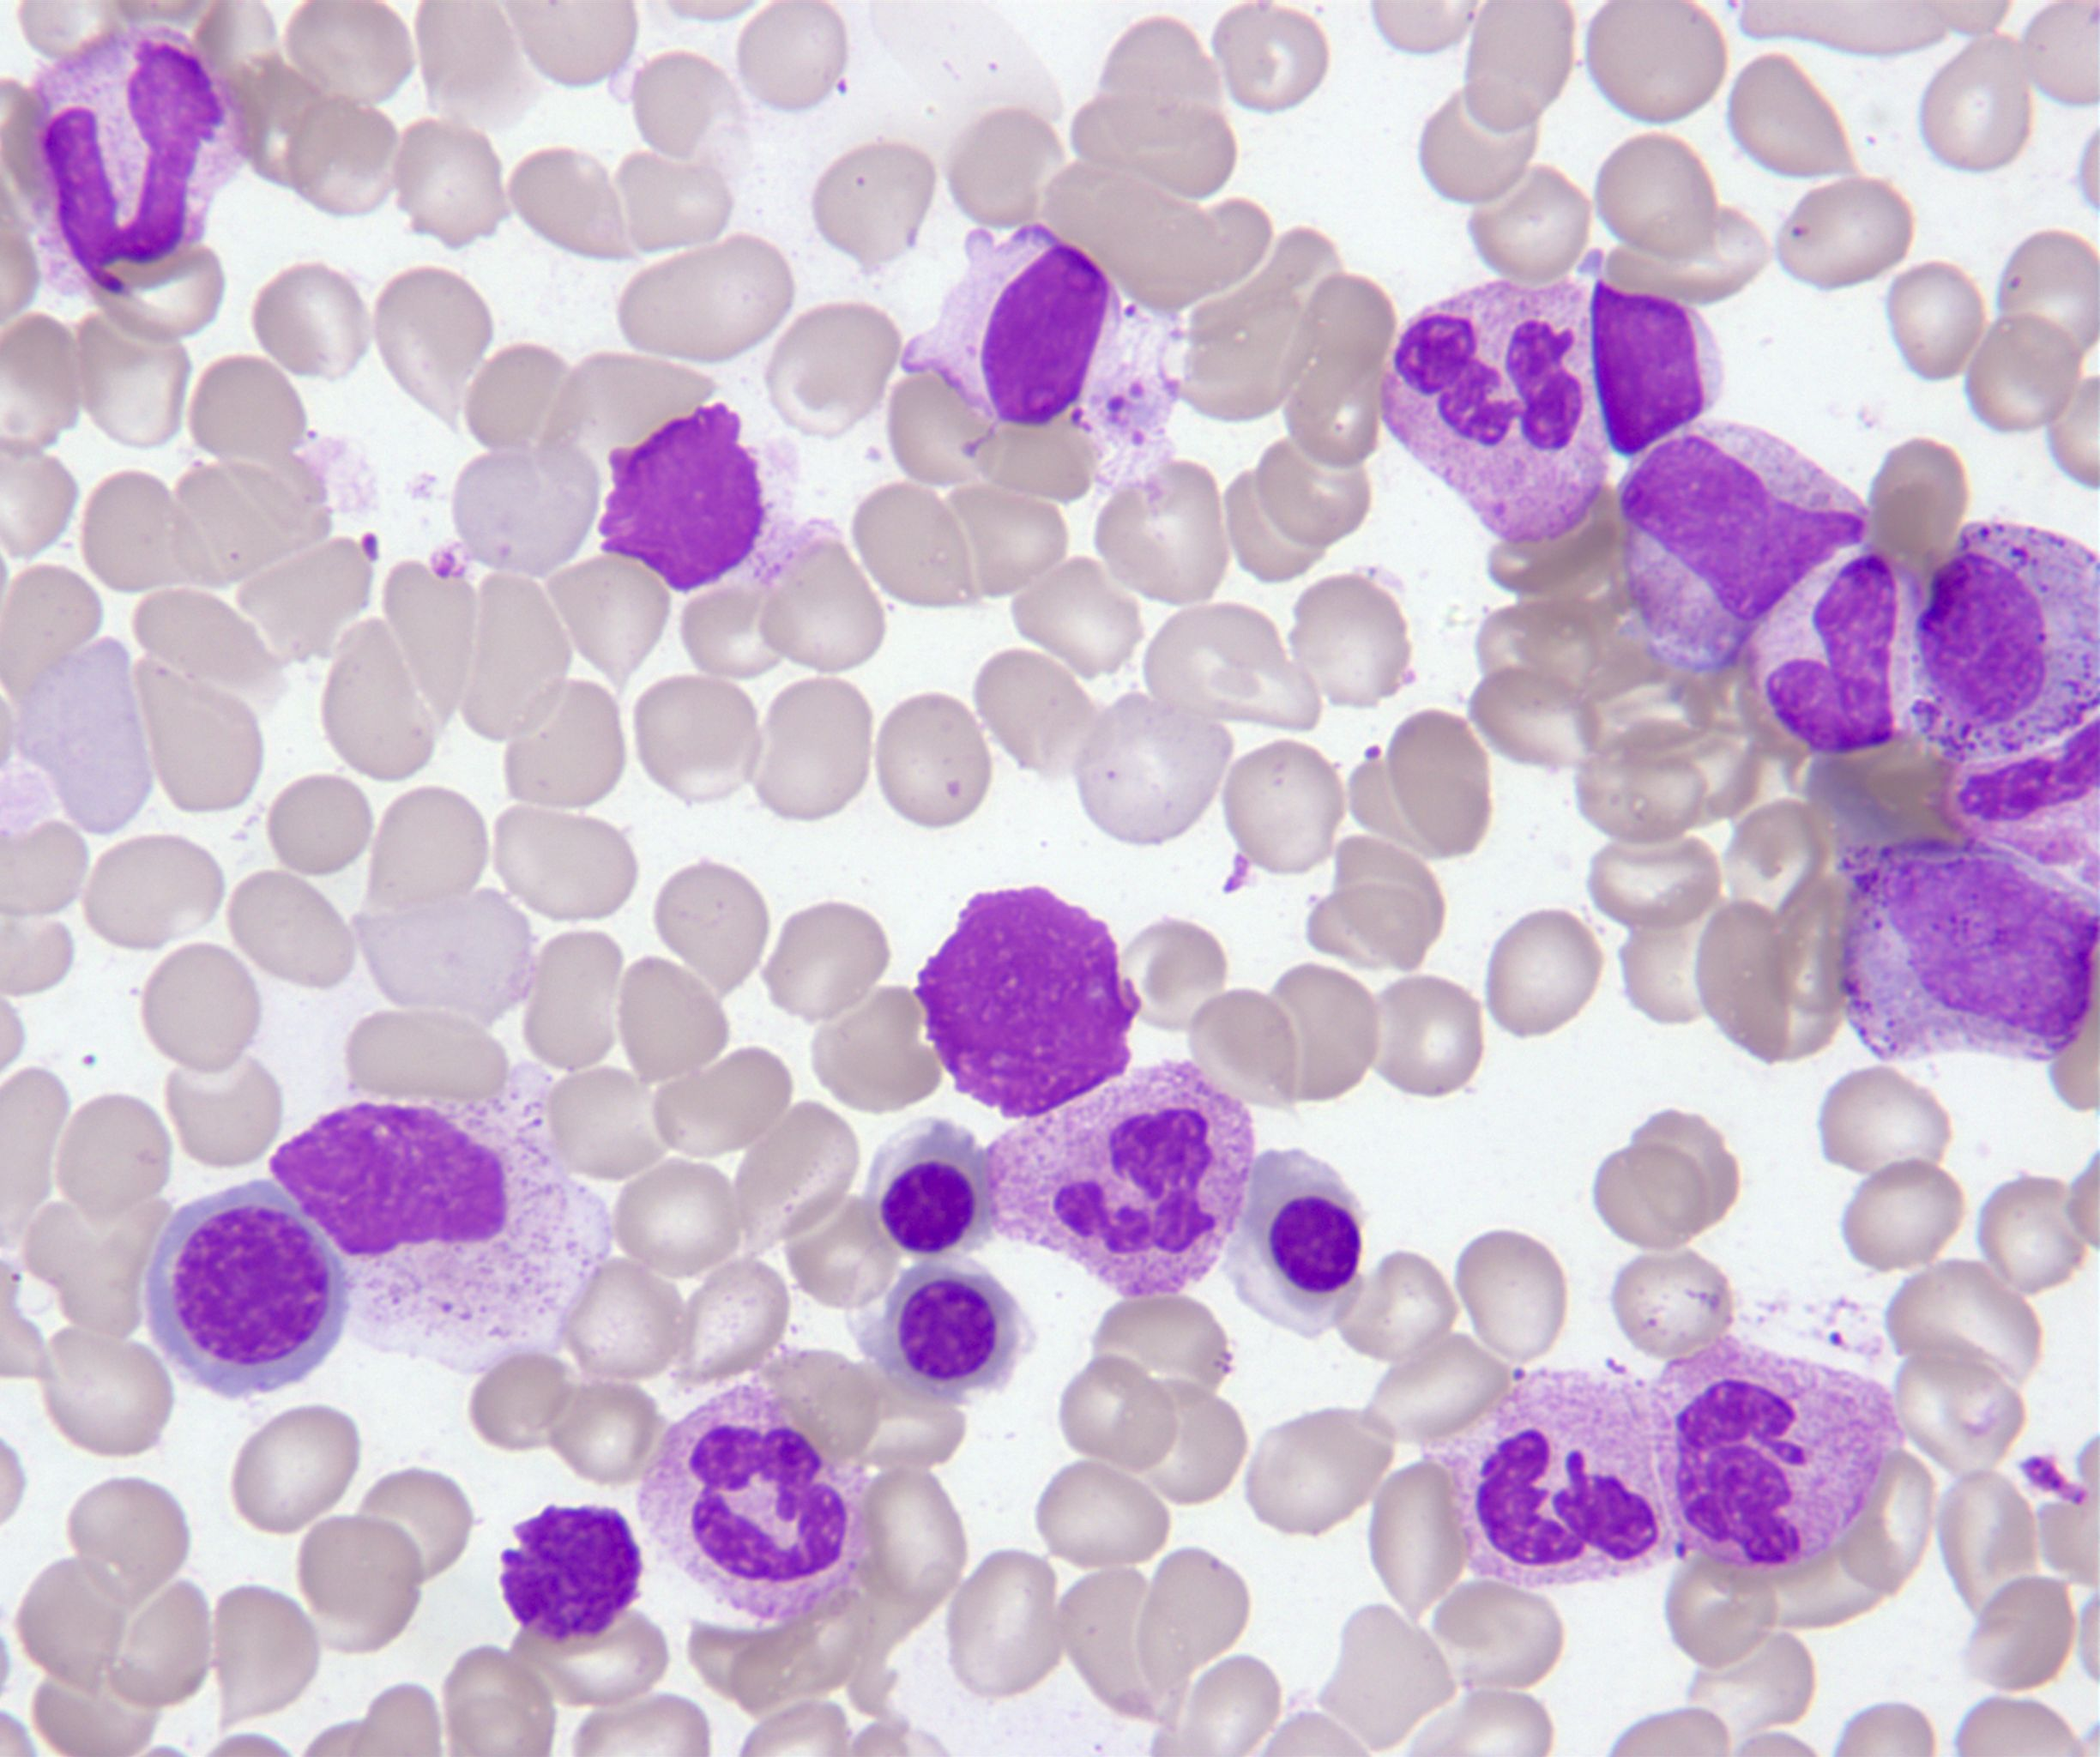23: (133, 1174, 365, 1412)
24: (1214, 1131, 1373, 1342), (853, 1258, 1034, 1406), (855, 1110, 996, 1265)
3: (267, 1085, 624, 1382), (1612, 415, 1882, 673), (1830, 829, 2100, 1073), (1906, 513, 2100, 766)
32: (897, 218, 1135, 436), (1580, 270, 1730, 461)
5: (24, 17, 255, 307), (1744, 546, 1924, 761)
6: (973, 1057, 1261, 1300), (1647, 1328, 1922, 1576), (1376, 272, 1619, 551), (1425, 1359, 1694, 1596), (631, 1377, 884, 1626)
x: (909, 878, 1148, 1125), (586, 394, 769, 607), (492, 1499, 649, 1654)
